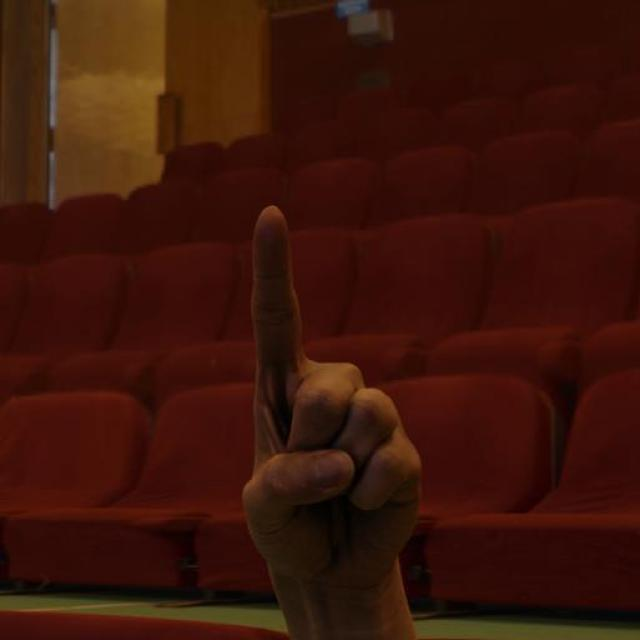Z: (236, 200, 426, 592)
